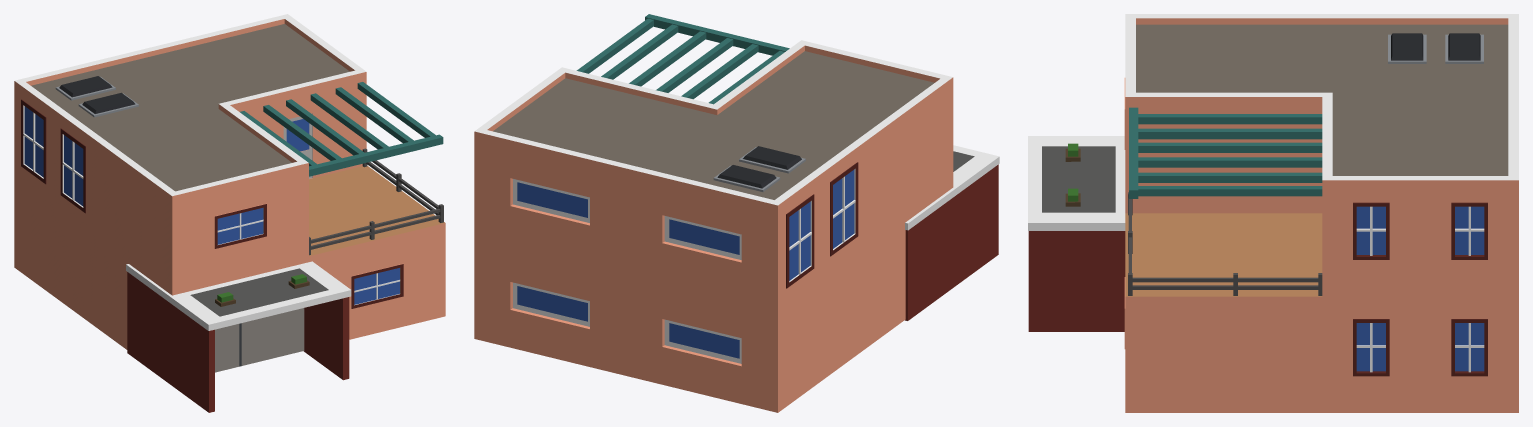
The model's file is Apartment_5.fbx.
3 renders of one model, left to right at view 1: azimuth 30°, elevation 25°; view 2: azimuth 150°, elevation 25°; view 3: azimuth 270°, elevation 25°, orthographic. The views are drawn at different scales.
Parts seen in each view (by area): view 1: Apartment_5; view 2: Apartment_5; view 3: Apartment_5.
Boxes of the visible parts, x1,y1,x2,y2 form: Apartment_5: (14, 14, 445, 412); Apartment_5: (474, 14, 999, 412); Apartment_5: (1028, 14, 1518, 412).
Size of the model in its own units: 571 by 370 by 703.
